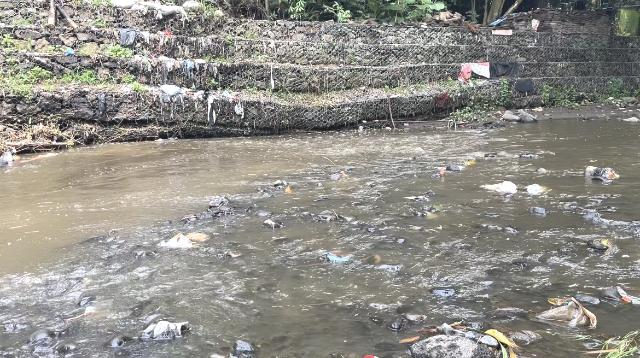Sampah Anorganik: (524, 300, 598, 333), (598, 284, 640, 309), (576, 161, 610, 180), (478, 178, 516, 194), (161, 235, 189, 249), (324, 251, 351, 263), (526, 183, 545, 199), (463, 158, 479, 167), (404, 197, 432, 202)
Sampah Organik: (390, 317, 513, 358), (418, 205, 446, 221), (186, 230, 209, 240), (175, 213, 194, 222), (340, 170, 349, 178), (284, 187, 292, 194), (439, 169, 445, 176)
